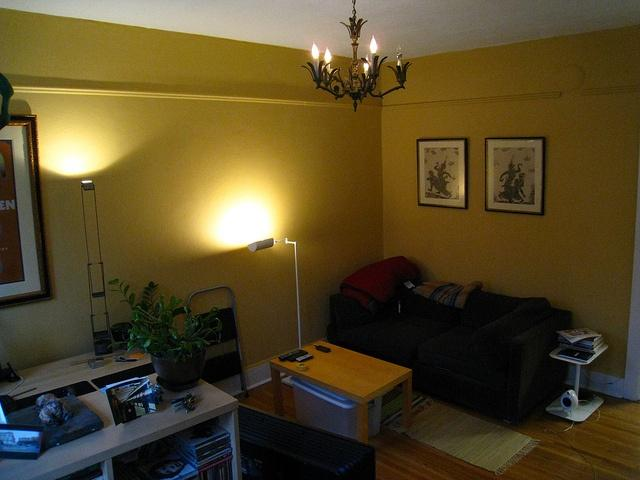Meja: (268, 339, 413, 442)
